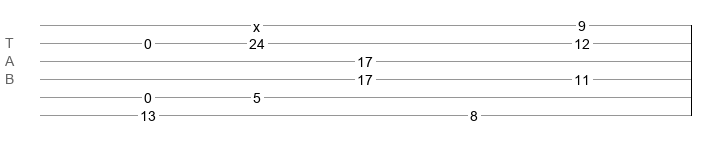0: (144, 36, 152, 46), (144, 90, 152, 100)
11: (574, 72, 590, 82)
12: (574, 36, 590, 46)
13: (140, 108, 156, 118)
17: (357, 54, 373, 64), (357, 72, 373, 82)
24: (249, 36, 265, 46)
5: (253, 90, 261, 100)
8: (470, 108, 478, 118)
9: (578, 18, 586, 28)
x: (253, 19, 260, 27)
